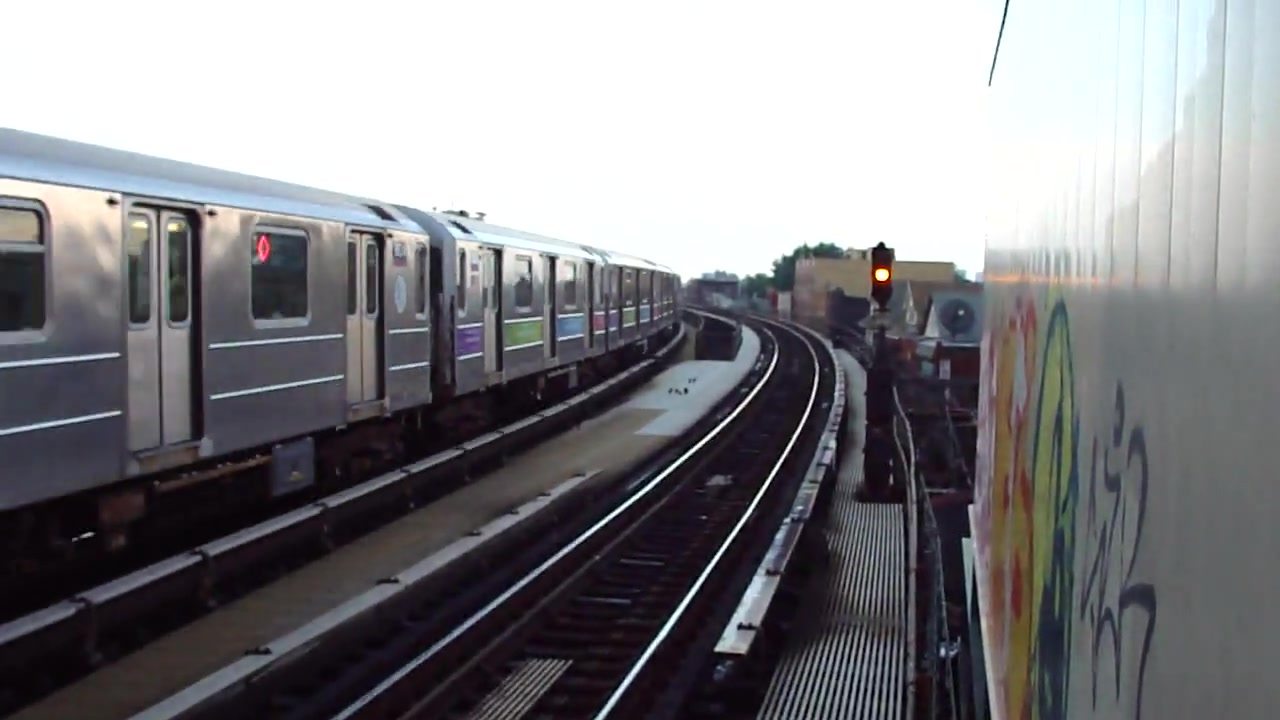train: (1, 113, 688, 539)
